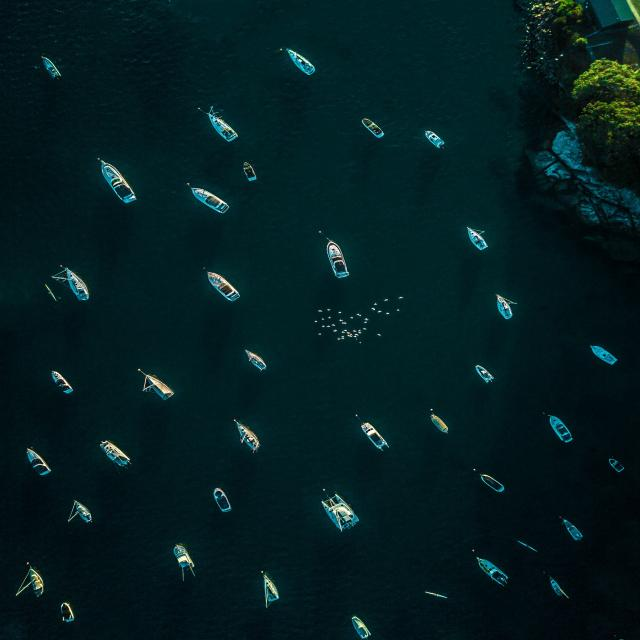ship: (95, 157, 140, 204), (318, 230, 351, 278), (201, 266, 243, 302), (319, 494, 358, 531), (204, 106, 238, 146), (135, 370, 177, 402), (57, 268, 93, 303), (356, 421, 395, 453), (471, 555, 510, 587), (97, 442, 136, 472), (186, 187, 229, 214), (278, 46, 318, 75), (470, 469, 512, 495), (548, 412, 578, 446), (462, 223, 492, 252), (24, 444, 52, 475), (227, 424, 261, 449), (44, 368, 74, 396), (172, 543, 195, 578), (241, 346, 271, 372), (19, 565, 42, 598), (67, 498, 95, 525), (589, 342, 620, 366), (358, 115, 385, 140), (424, 413, 454, 435), (350, 614, 375, 640), (561, 516, 586, 541), (493, 292, 513, 322), (212, 486, 234, 513), (42, 56, 64, 83), (546, 573, 568, 600), (260, 576, 278, 608), (422, 129, 448, 151), (240, 157, 258, 184), (475, 362, 494, 385), (60, 598, 76, 624), (606, 457, 626, 472)
